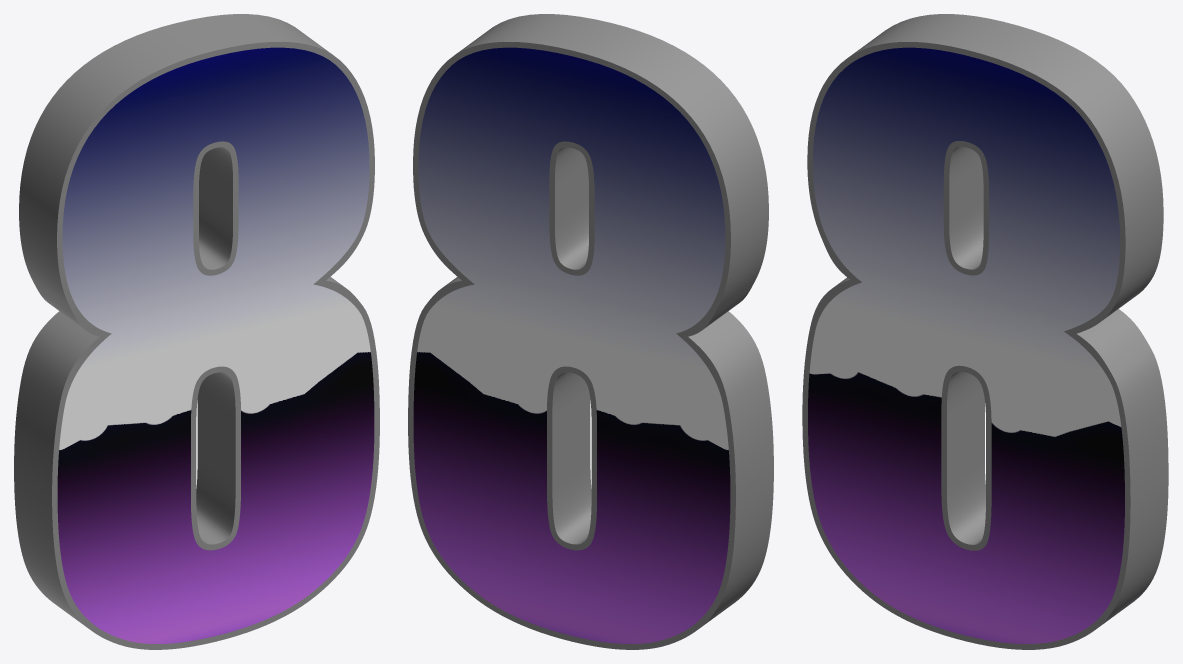
3 renders of one model, left to right at view 1: azimuth 30°, elevation 25°; view 2: azimuth 150°, elevation 25°; view 3: azimuth 330°, elevation 25°, orthographic.
Parts seen in each view (by area): view 1: 8, 8_outline; view 2: 8, 8_outline; view 3: 8, 8_outline.
Boxes of the visible parts, x1,y1,x2,y2 form: 8: (57,47,374,643); 8_outline: (14,14,379,649); 8: (413,47,730,643); 8_outline: (408,14,773,649); 8: (808,47,1124,643); 8_outline: (802,14,1168,649).
Bounding box in the file's own units: 59.75 × 103 × 12.
Materials: 2 (1 with a texture image).
